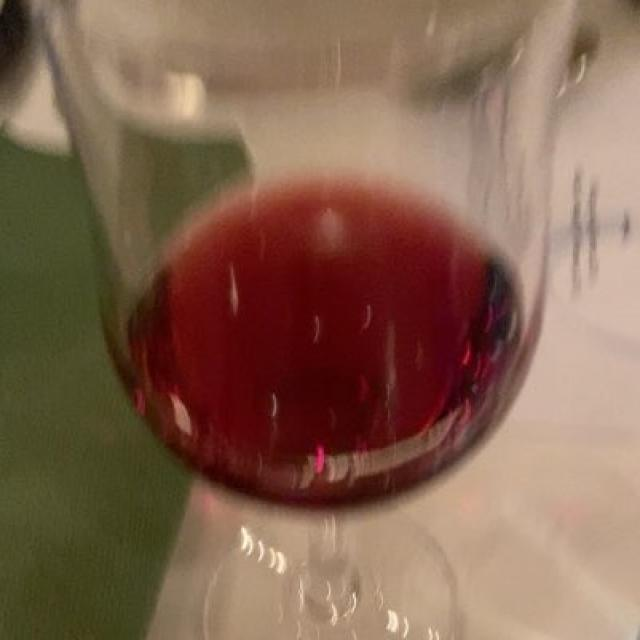wine: (138, 175, 513, 484)
